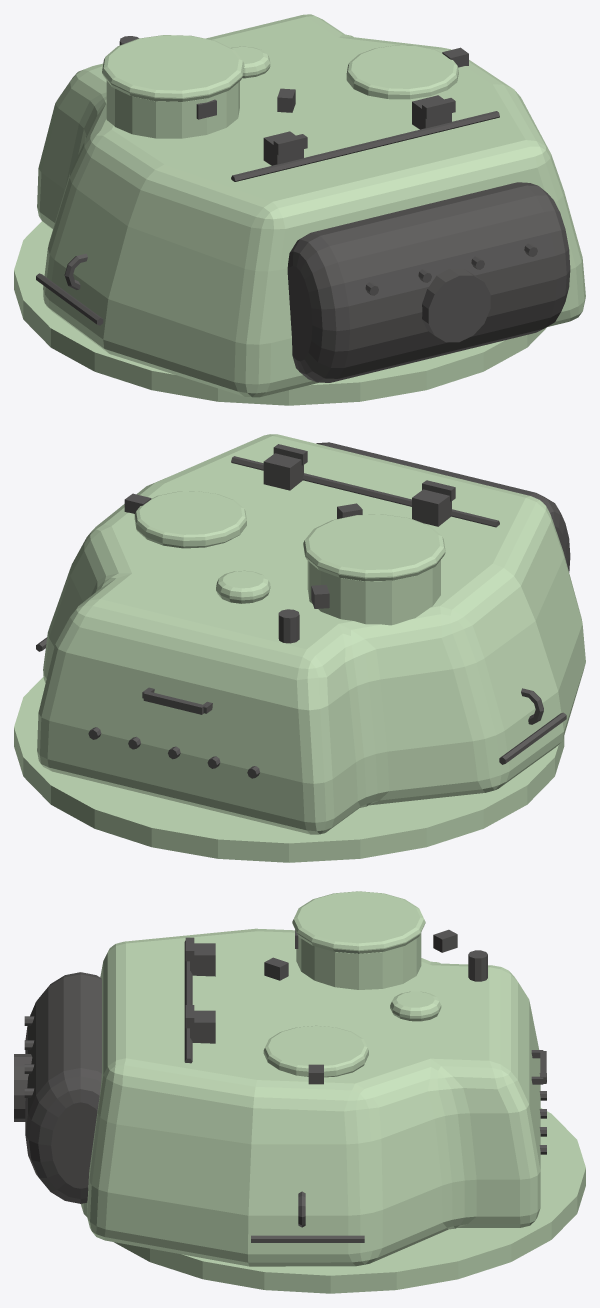
The model's file is light_turret_enclosed.glb.
The picture shows the model from 3 angles, top to bottom: view 1: azimuth 30°, elevation 25°; view 2: azimuth 150°, elevation 25°; view 3: azimuth 270°, elevation 25°; orthographic projection. The views are drawn at different scales.
Parts seen in each view (by area): view 1: turret_shell, mantlet_casting, turret_ring, hatch_cupola, hatch_gunner, cupola_commander, mantlet_collar, turret_roof_weld_trim_dark, roof_ventilator, roof-1_periscope_base, turret_side-1_weld_trim_dark, roof1_periscope_base (+2 smaller); view 2: turret_shell, turret_ring, hatch_cupola, cupola_commander, hatch_gunner, mantlet_casting, turret_roof_weld_trim_dark, roof_ventilator, roof1_periscope_base, roof-1_periscope_base, antenna_base_trim_dark, turret_side-1_weld_trim_dark (+1 smaller); view 3: turret_shell, turret_ring, mantlet_casting, hatch_cupola, cupola_commander, hatch_gunner, roof_ventilator, turret_side1_weld_trim_dark, mantlet_collar, roof1_periscope_base, roof-1_periscope_base, turret_roof_weld_trim_dark (+1 smaller).
Part boxes in pixels (x1,y1,x2,y2): turret_shell: (37, 14, 585, 397); mantlet_casting: (287, 182, 570, 382); turret_ring: (14, 221, 546, 405); hatch_cupola: (102, 35, 244, 101); hatch_gunner: (346, 45, 458, 99); cupola_commander: (106, 80, 239, 138); mantlet_collar: (422, 268, 490, 342); turret_roof_weld_trim_dark: (231, 111, 499, 181); roof_ventilator: (231, 46, 270, 78); roof-1_periscope_base: (263, 131, 303, 165); turret_side-1_weld_trim_dark: (36, 273, 103, 325); roof1_periscope_base: (412, 95, 451, 129); turret_shell: (37, 434, 585, 834); turret_ring: (14, 677, 564, 862); hatch_cupola: (303, 514, 445, 581); cupola_commander: (307, 560, 440, 625); hatch_gunner: (134, 491, 246, 548); mantlet_casting: (316, 442, 570, 572); turret_roof_weld_trim_dark: (231, 456, 499, 527); roof_ventilator: (216, 570, 270, 603); roof1_periscope_base: (263, 453, 303, 490); roof-1_periscope_base: (412, 489, 451, 526); antenna_base_trim_dark: (278, 609, 299, 643); turret_side-1_weld_trim_dark: (499, 712, 566, 764); turret_shell: (87, 928, 540, 1266); turret_ring: (81, 1108, 585, 1293); mantlet_casting: (25, 972, 101, 1203); hatch_cupola: (292, 891, 425, 953); cupola_commander: (296, 933, 421, 989); hatch_gunner: (263, 1025, 368, 1077); roof_ventilator: (390, 991, 441, 1021); turret_side1_weld_trim_dark: (251, 1235, 364, 1242); mantlet_collar: (14, 1054, 32, 1121); roof1_periscope_base: (190, 1010, 215, 1043); roof-1_periscope_base: (190, 943, 215, 976); turret_roof_weld_trim_dark: (184, 940, 192, 1063).
Bounding box in the file's own units: 1.81 × 0.866 × 2.01.
